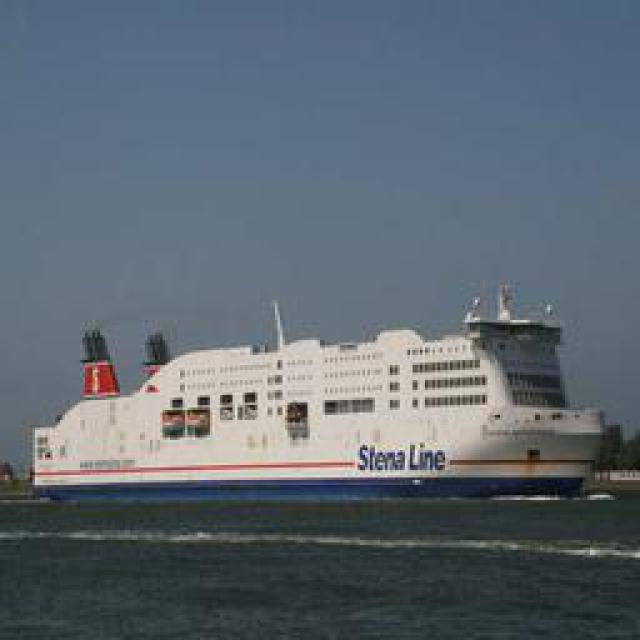Ship: (31, 289, 604, 502)
